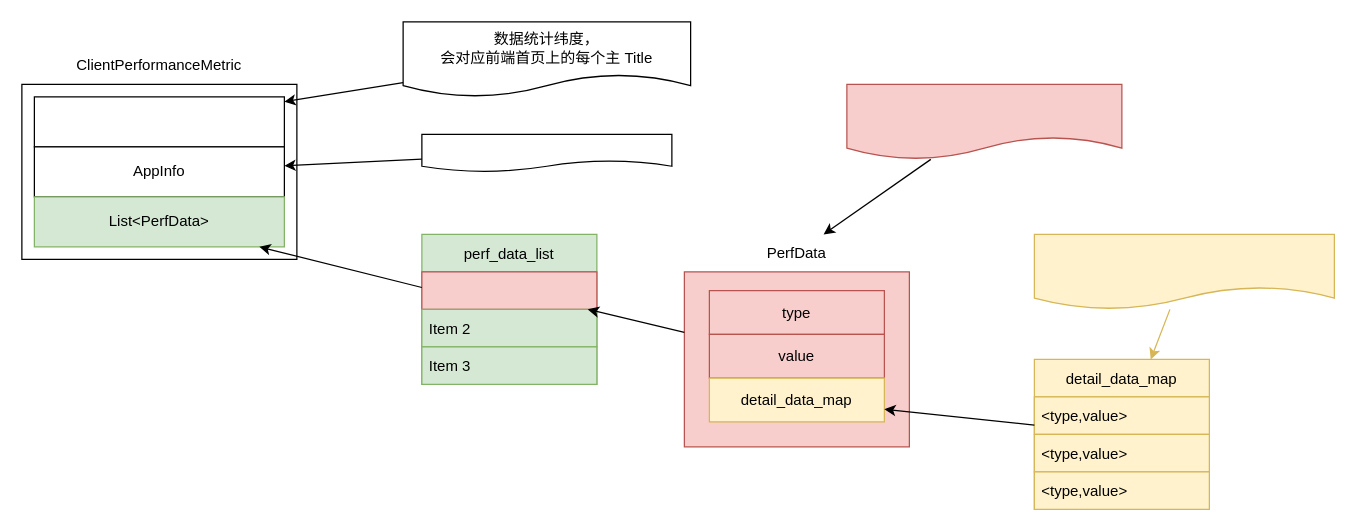
This 1356x531 diagram has some shape labels left out. The shapes that lost their labels are listed below. From the top down, each one's centre as x and y in pixels, then its label:
point (158, 121): StatisticType
point (984, 121): 这里的 value 应该是首页上会直接展示的，也是卡合流的
point (546, 152): 用于关联测试的应用信息
point (509, 290): perf_data
point (1183, 271): 详细数据这里会在详情页面进一步读取展示
